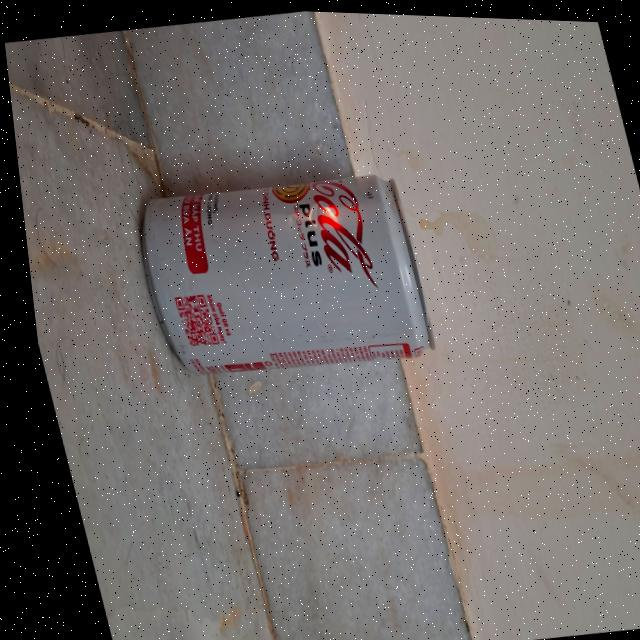Coca Cola Plus: (108, 128, 445, 429)
